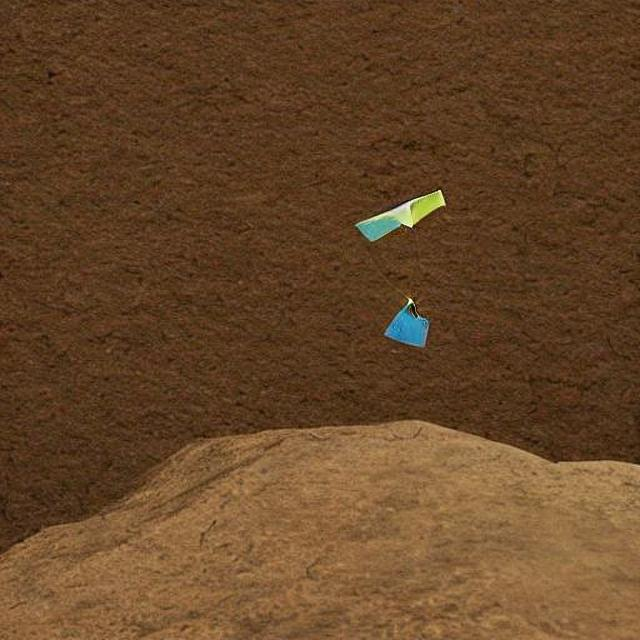floating object: (354, 190, 447, 242), (382, 296, 429, 347)
